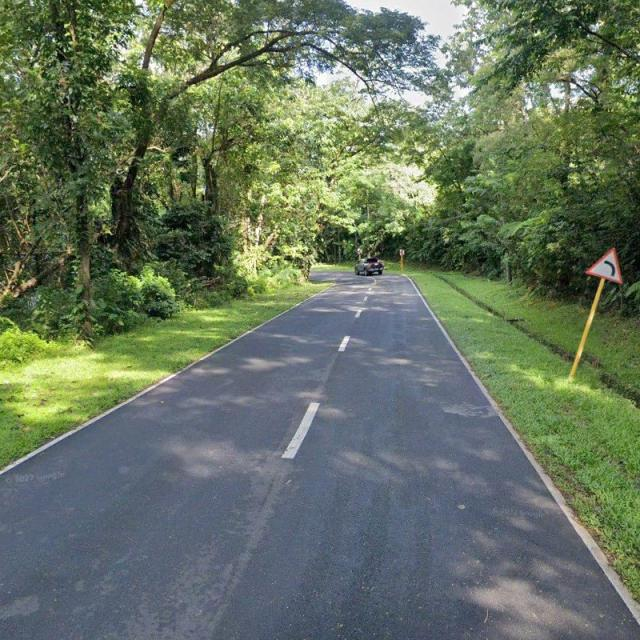warn_left_curve: (586, 247, 623, 284)
